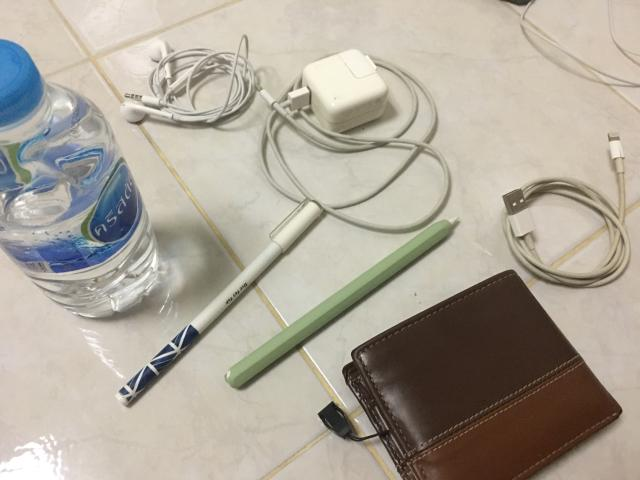Pen: (116, 200, 322, 405)
Wallet: (342, 270, 621, 479)
bottle: (0, 39, 158, 318)
wire: (258, 49, 450, 232), (502, 132, 630, 288), (120, 35, 255, 124)
